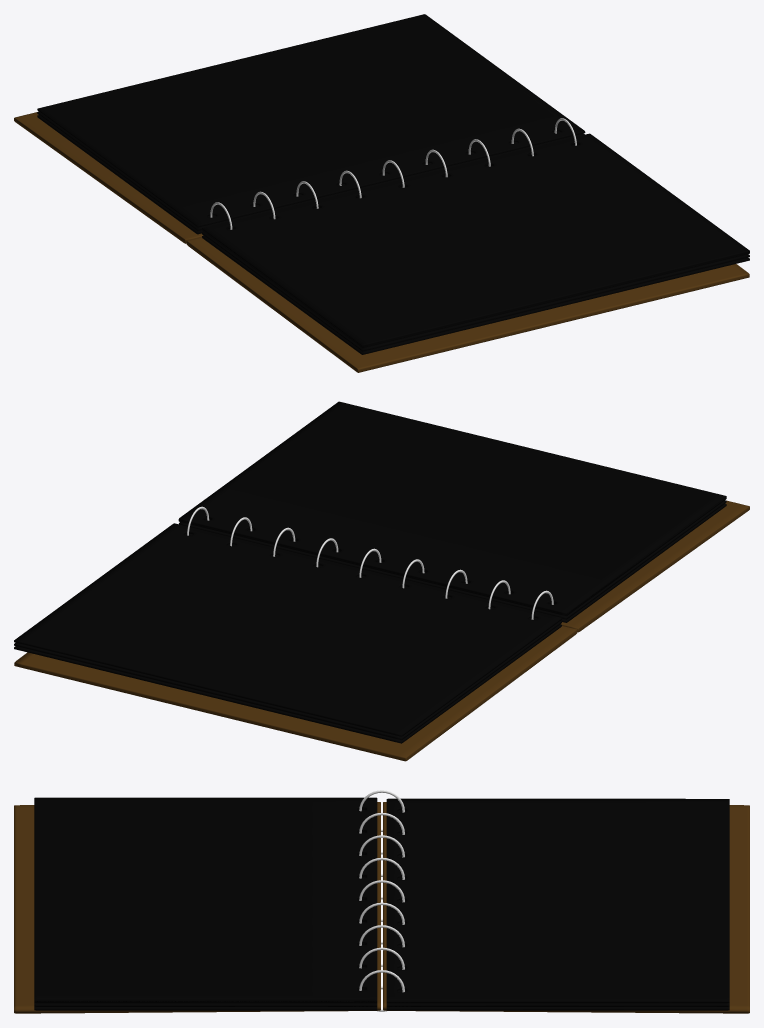
File: Book&Table_2.0.fbx
3 views of the same model, one above another, from view 1: azimuth 30°, elevation 25°; view 2: azimuth 150°, elevation 25°; view 3: azimuth 270°, elevation 25° (orthographic). The views are drawn at different scales.
Visible parts, largest first — view 1: Page_Fixed, Page3.003, Cover_2, Cover_1, Ring; view 2: Page_Fixed, Page3.003, Cover_1, Cover_2, Ring; view 3: Page_Fixed, Page3.003, Cover_1, Cover_2, Ring.
Part boxes in pixels (left/top/right/bottom): Page_Fixed: left=37, top=14, right=749, bottom=354; Page3.003: left=202, top=133, right=749, bottom=346; Cover_2: left=186, top=237, right=749, bottom=372; Cover_1: left=14, top=112, right=203, bottom=243; Ring: left=210, top=118, right=576, bottom=229; Page_Fixed: left=14, top=497, right=726, bottom=743; Page3.003: left=178, top=401, right=726, bottom=614; Cover_1: left=14, top=626, right=577, bottom=761; Cover_2: left=561, top=500, right=749, bottom=632; Ring: left=187, top=506, right=553, bottom=619; Page_Fixed: left=34, top=798, right=729, bottom=1010; Page3.003: left=34, top=797, right=377, bottom=1001; Cover_1: left=383, top=802, right=749, bottom=1013; Cover_2: left=14, top=802, right=380, bottom=1013; Ring: left=359, top=790, right=404, bottom=1011.
Size of what is drawn, in the model's own units: 183 by 17.03 by 272.
